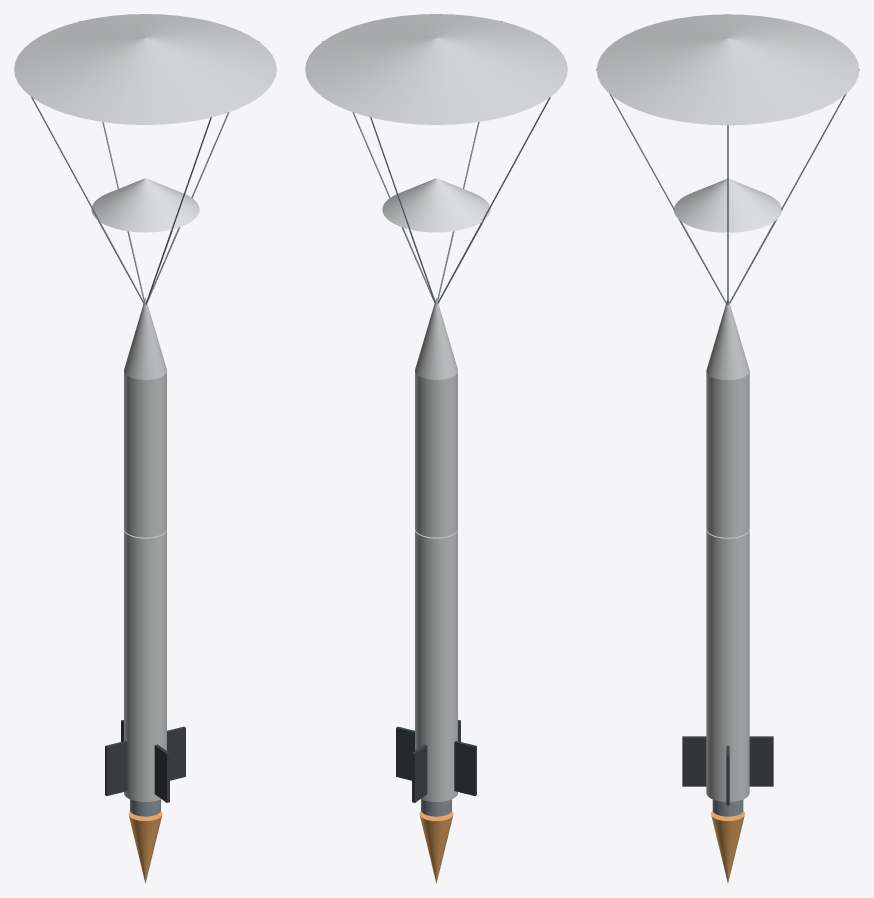
File: vehicle.glb
3 views of the same model, side by side, from view 1: azimuth 30°, elevation 25°; view 2: azimuth 150°, elevation 25°; view 3: azimuth 270°, elevation 25° (orthographic).
Parts seen in each view (by area): view 1: main-canopy, airframe-lower, airframe-upper, drogue-canopy, fin (×3), nose, motor-flame, airframe-join; view 2: main-canopy, airframe-lower, airframe-upper, drogue-canopy, fin (×3), nose, motor-flame, airframe-join; view 3: main-canopy, airframe-lower, airframe-upper, drogue-canopy, fin (×2), nose, motor-flame, airframe-join.
Boxes of the visible parts, x1=… form: main-canopy: x1=14, y1=14, x2=276, y2=124; airframe-lower: x1=124, y1=544, x2=166, y2=801; airframe-upper: x1=124, y1=372, x2=166, y2=537; drogue-canopy: x1=91, y1=178, x2=199, y2=232; fin (×3): x1=105, y1=726, x2=185, y2=802; nose: x1=124, y1=297, x2=166, y2=379; motor-flame: x1=128, y1=811, x2=162, y2=883; airframe-join: x1=124, y1=530, x2=166, y2=551; main-canopy: x1=305, y1=14, x2=567, y2=124; airframe-lower: x1=415, y1=544, x2=457, y2=801; airframe-upper: x1=415, y1=372, x2=457, y2=537; drogue-canopy: x1=382, y1=178, x2=490, y2=232; fin (×3): x1=396, y1=726, x2=476, y2=802; nose: x1=415, y1=297, x2=457, y2=379; motor-flame: x1=419, y1=811, x2=453, y2=883; airframe-join: x1=415, y1=530, x2=457, y2=551; main-canopy: x1=596, y1=14, x2=859, y2=125; airframe-lower: x1=706, y1=542, x2=749, y2=801; airframe-upper: x1=706, y1=372, x2=749, y2=537; drogue-canopy: x1=674, y1=179, x2=781, y2=232; fin (×2): x1=682, y1=736, x2=773, y2=786; nose: x1=706, y1=300, x2=749, y2=379; motor-flame: x1=711, y1=811, x2=744, y2=882; airframe-join: x1=706, y1=529, x2=749, y2=551.
Size of the model in its own units: 3.42 by 12.07 by 3.42.
